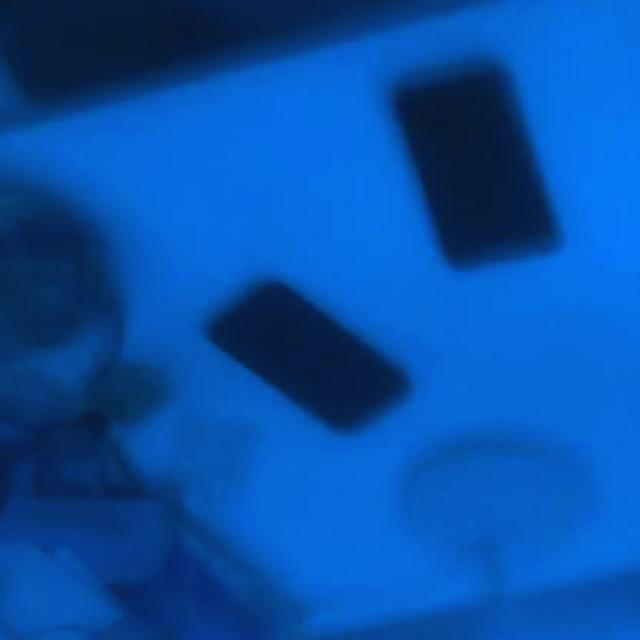phone: (391, 70, 560, 272), (204, 274, 408, 428)
